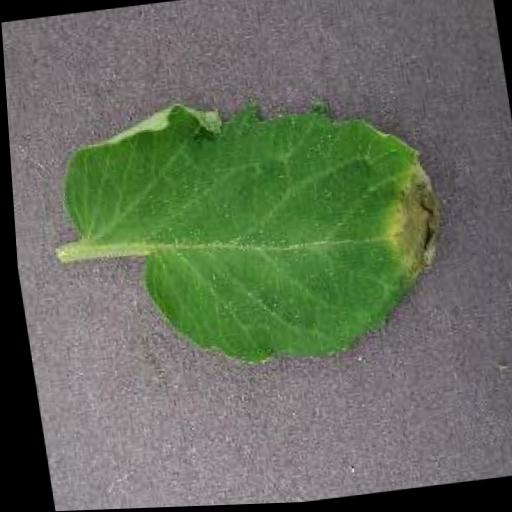Late Blight: (47, 75, 456, 387)
